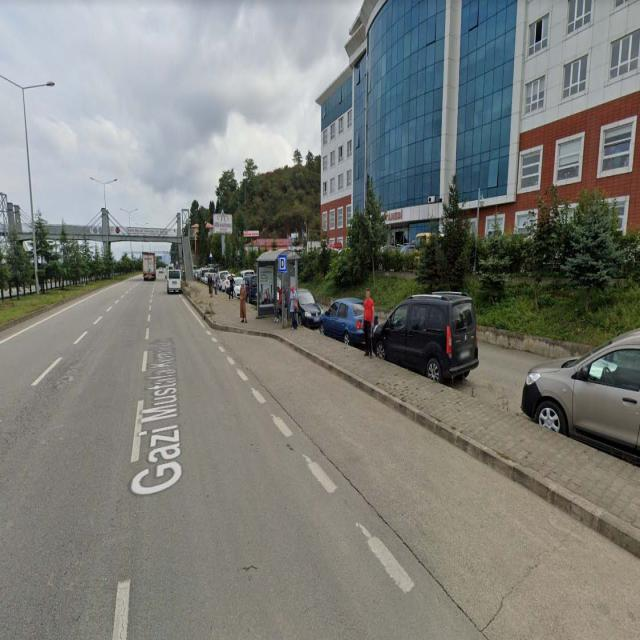durak: (278, 254, 286, 273)
